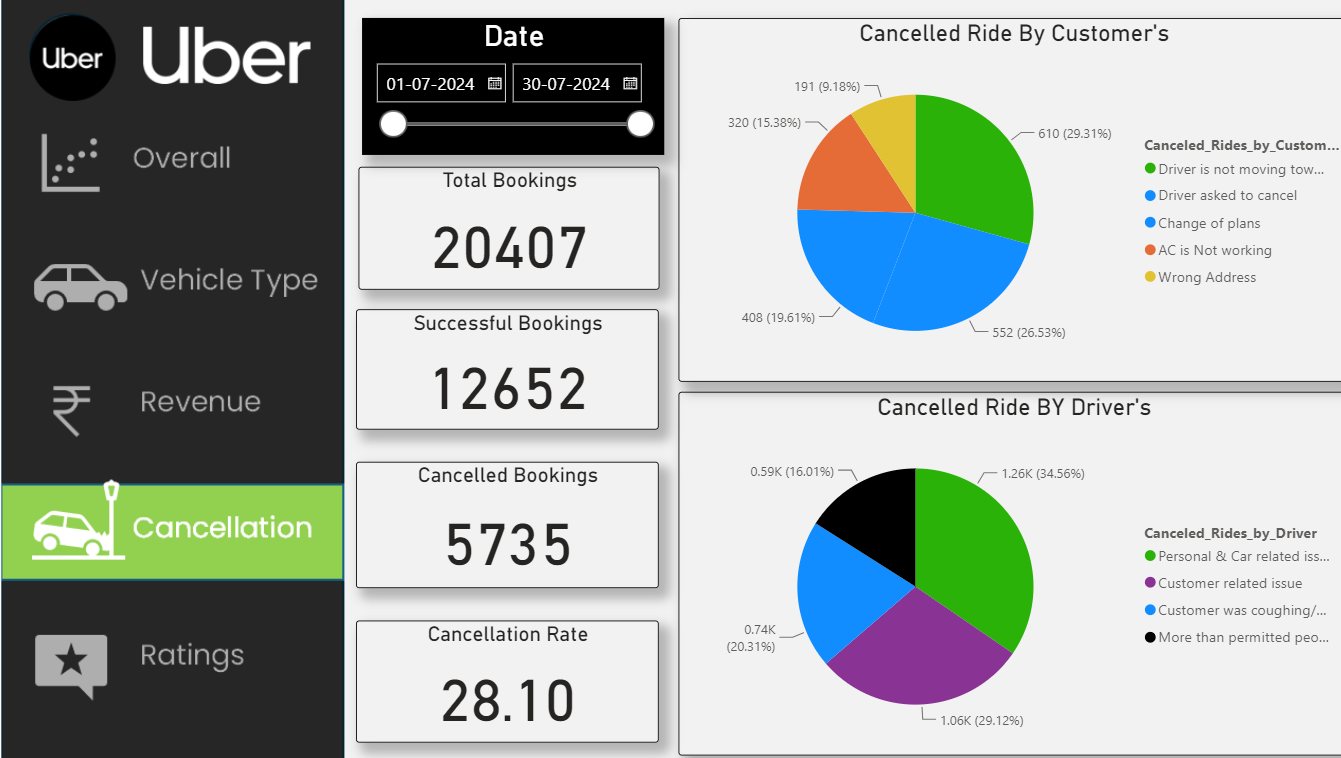

The dashboard page shown, as its layout file describes it:
{"tool":"powerbi","page":{"name":"Cancellation","canvas":[1280,720],"ordinal":3},"visuals":[{"type":"image","box":[0,0,1280,719.5],"z":0},{"type":"actionButton","box":[12.8,452.7,317.9,97.9],"z":1000},{"type":"actionButton","box":[12.8,227.1,317.9,97.9],"z":2000},{"type":"actionButton","box":[12.8,339.2,317.9,97.9],"z":3000},{"type":"actionButton","box":[12.8,570.5,317.9,97.9],"z":4000},{"type":"actionButton","box":[12.8,112.1,317.9,97.9],"z":5000},{"type":"pieChart","title":"Cancelled Ride By Customer''s","fields":{"Category":["July.Canceled_Rides_by_Customer"],"Y":["CountNonNull(July.Canceled_Rides_by_Customer)"]},"box":[640,23.5,623.4,338],"z":6000},{"type":"pieChart","title":"Cancelled Ride BY Driver''s","fields":{"Category":["July.Canceled_Rides_by_Driver"],"Y":["CountNonNull(July.Canceled_Rides_by_Driver)"]},"box":[640,371.3,623.4,338],"z":7000},{"type":"slicer","title":"Date","fields":{"Values":["July.Date"]},"box":[345.4,23.7,281.1,127],"z":8000},{"type":"card","title":"Total Bookings","fields":{"Values":["Count(July.Booking_ID)"]},"box":[341.3,161.3,280,114.7],"z":9000},{"type":"card","title":"Successful Bookings","fields":{"Values":["Count(July.Booking_ID)"]},"box":[340,294.7,281.3,112],"z":10000},{"type":"card","title":"Cancelled Bookings","fields":{"Values":["Count(July.Booking_ID)"]},"box":[340,436,281.3,117.3],"z":11000},{"type":"card","title":"Cancellation Rate","fields":{"Values":["July.CanceledBookingsCount"]},"box":[340,584,281.3,113.3],"z":12000}]}

Visuals, with their boxes on the page's 1280x720 design canvas (x1, y1, x2, y2). These are canvas units, not pixel positions in the 1341x758 screenshot, which may show the page scaled, cropped or inside an application window:
image: [0, 0, 1280, 720]
actionButton: [13, 453, 331, 551]
actionButton: [13, 227, 331, 325]
actionButton: [13, 339, 331, 437]
actionButton: [13, 570, 331, 668]
actionButton: [13, 112, 331, 210]
"Cancelled Ride By Customer''s" pieChart: [640, 24, 1263, 362]
"Cancelled Ride BY Driver''s" pieChart: [640, 371, 1263, 709]
"Date" slicer: [345, 24, 626, 151]
"Total Bookings" card: [341, 161, 621, 276]
"Successful Bookings" card: [340, 295, 621, 407]
"Cancelled Bookings" card: [340, 436, 621, 553]
"Cancellation Rate" card: [340, 584, 621, 697]
